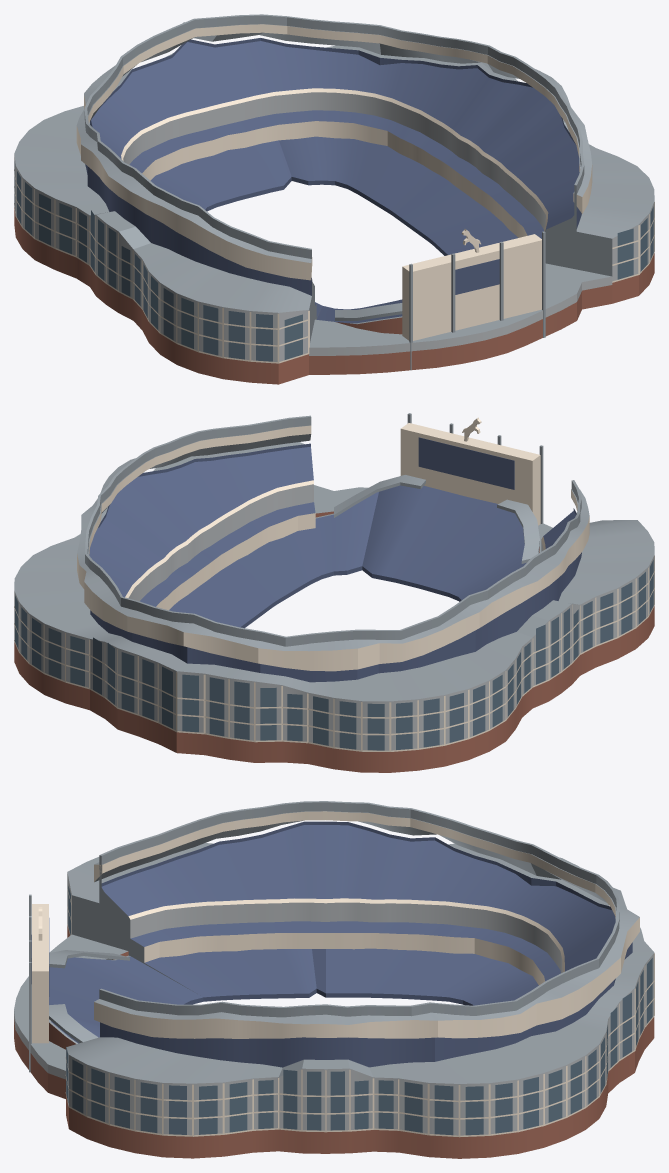
File: den-empower-field.glb
3 views of the same model, one above another, from view 1: azimuth 30°, elevation 25°; view 2: azimuth 150°, elevation 25°; view 3: azimuth 270°, elevation 25° (orthographic). The views are drawn at different scales.
Visible parts, largest first — view 1: Empower Field at Mile High; view 2: Empower Field at Mile High; view 3: Empower Field at Mile High.
Boxes of the visible parts, x1,y1,x2,y2 form: Empower Field at Mile High: (14,14,654,384); Empower Field at Mile High: (14,413,654,772); Empower Field at Mile High: (14,801,654,1158).
Size of the model in its own units: 238 by 61.7 by 266.
